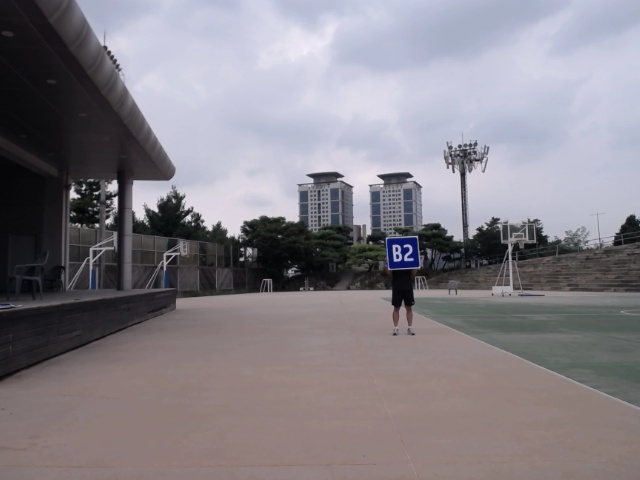delivery_b2: (385, 236, 421, 270)
